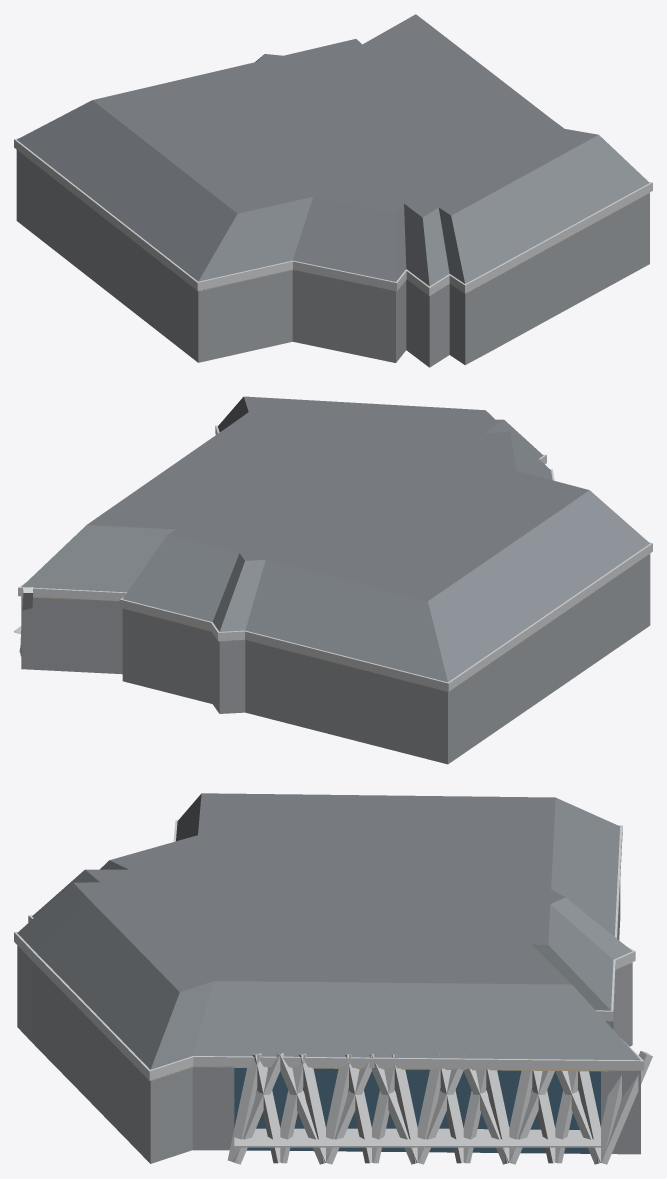
File: state-farm-arena.glb
3 views of the same model, one above another, from view 1: azimuth 30°, elevation 25°; view 2: azimuth 150°, elevation 25°; view 3: azimuth 270°, elevation 25° (orthographic). The views are drawn at different scales.
Visible parts, largest first — view 1: lod0_lm_metal, lod0_bld_wall, lod1_lm_stone, lod0_lm_stone; view 2: lod0_lm_metal, lod0_bld_wall, lod1_lm_stone, lod0_lm_stone; view 3: lod0_lm_metal, lod0_lm_stone, lod0_bld_wall, lod1_lm_stone, lod0_bld_glass.
Boxes of the visible parts, x1=… form: lod0_lm_metal: x1=17, y1=14, x2=649, y2=286; lod0_bld_wall: x1=16, y1=150, x2=649, y2=367; lod1_lm_stone: x1=14, y1=135, x2=652, y2=295; lod0_lm_stone: x1=14, y1=138, x2=652, y2=296; lod0_lm_metal: x1=22, y1=396, x2=649, y2=682; lod0_bld_wall: x1=21, y1=554, x2=650, y2=764; lod1_lm_stone: x1=18, y1=406, x2=652, y2=691; lod0_lm_stone: x1=14, y1=425, x2=652, y2=683; lod0_lm_metal: x1=17, y1=793, x2=640, y2=1069; lod0_lm_stone: x1=14, y1=820, x2=644, y2=1163; lod0_bld_wall: x1=17, y1=883, x2=640, y2=1163; lod1_lm_stone: x1=14, y1=823, x2=652, y2=1164; lod0_bld_glass: x1=234, y1=1068, x2=600, y2=1153.
Bounding box in the file's own units: 160 × 44.51 × 170.
